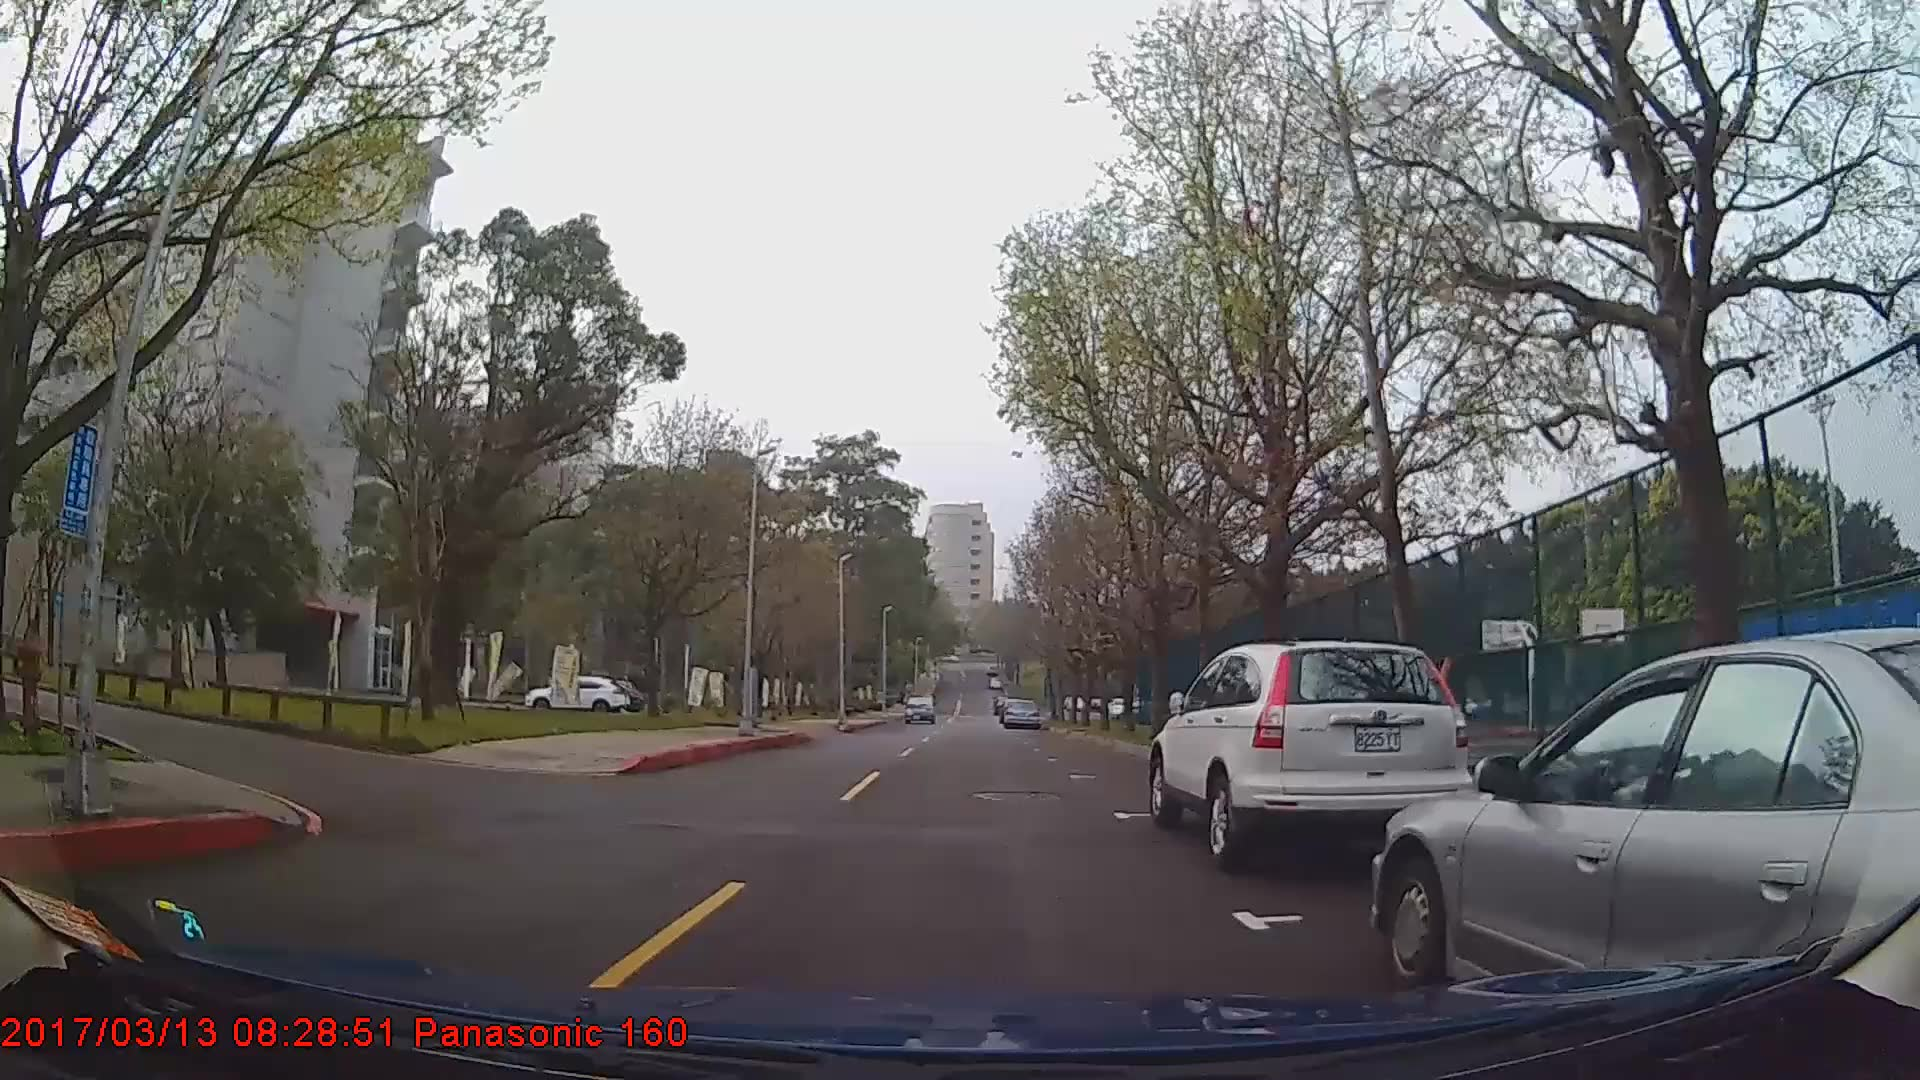vehicle: (1371, 624, 1920, 1000), (1146, 642, 1476, 872), (521, 675, 629, 713), (1001, 698, 1040, 729), (899, 691, 938, 723)
